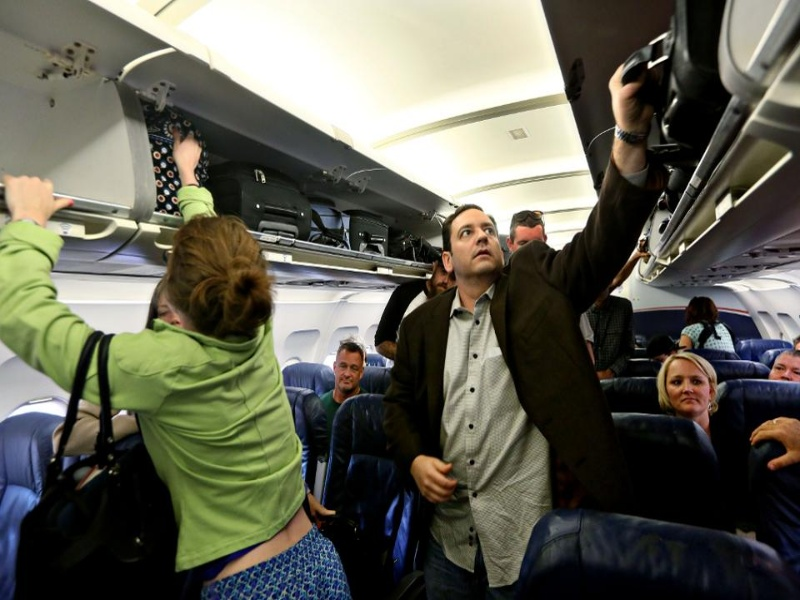open_bin: (137, 44, 452, 271), (531, 1, 775, 241), (3, 3, 159, 231)
